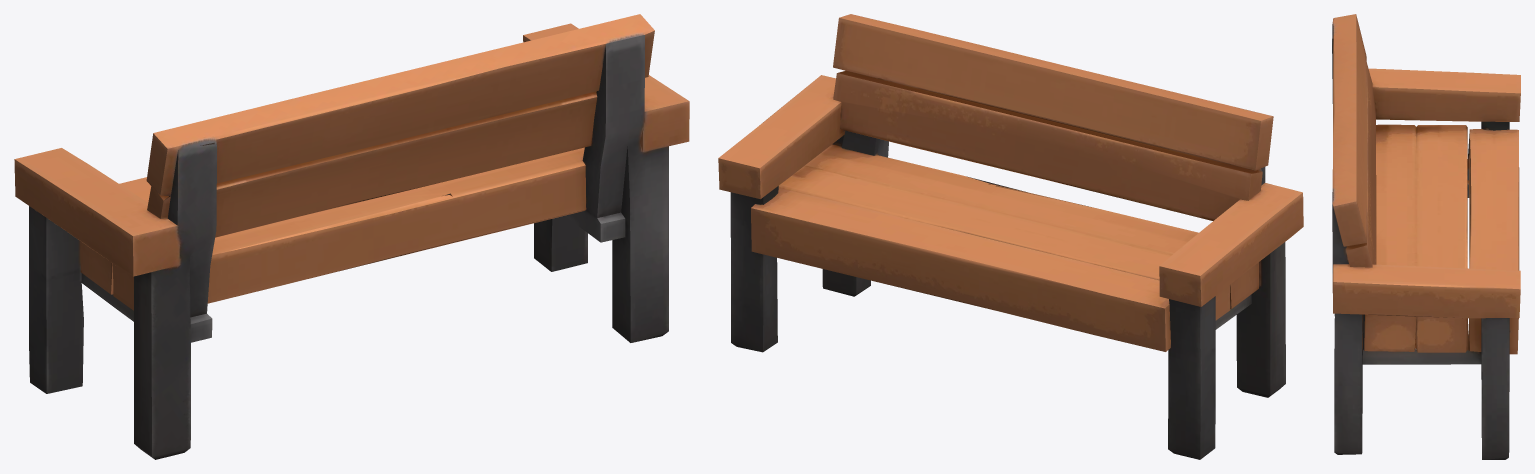
Rendered from seat_bench_v2.glb.
3 views of the same model, side by side, from view 1: azimuth 30°, elevation 25°; view 2: azimuth 150°, elevation 25°; view 3: azimuth 270°, elevation 25° (orthographic). The views are drawn at different scales.
Visible parts, largest first — view 1: body; view 2: body; view 3: body.
Part boxes in pixels (x1,y1,x2,y2): body: (14,14,689,459); body: (718,14,1303,459); body: (1332,14,1520,459).
Bounding box in the file's own units: 1.6 × 0.8678 × 0.5951.
1 material, 1 textured.
